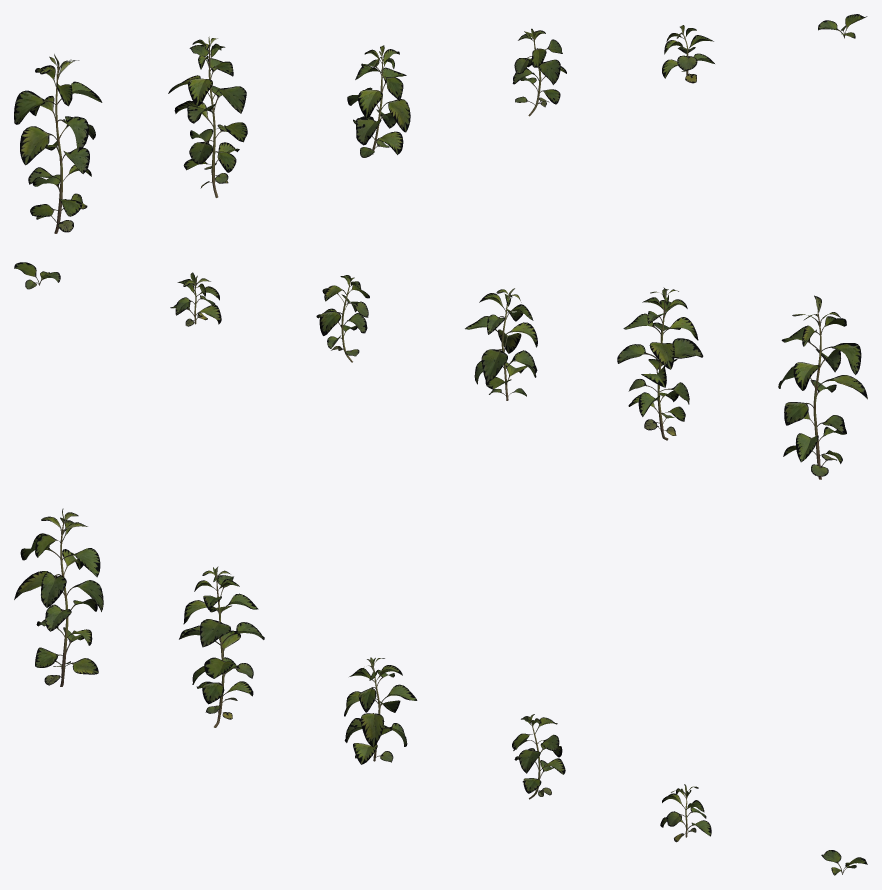
The model's file is nettle_plant.glb.
The picture shows the model from 3 angles, top to bottom: view 1: azimuth 30°, elevation 25°; view 2: azimuth 150°, elevation 25°; view 3: azimuth 330°, elevation 25°; orthographic projection.
Visible parts, largest first — view 1: nettle_plant_tall_a_LOD0, nettle_plant_tall_b_LOD0, nettle_plant_medium_a_LOD0, nettle_plant_medium_b_LOD0, nettle_plant_small_a_LOD0; view 2: nettle_plant_tall_a_LOD0, nettle_plant_tall_b_LOD0, nettle_plant_medium_a_LOD0, nettle_plant_medium_b_LOD0, nettle_plant_small_a_LOD0, nettle_plant_small_b_LOD0; view 3: nettle_plant_tall_a_LOD0, nettle_plant_tall_b_LOD0, nettle_plant_medium_a_LOD0, nettle_plant_medium_b_LOD0, nettle_plant_small_a_LOD0.
Part boxes in pixels (x1,y1,x2,y2): nettle_plant_tall_a_LOD0: [14, 54, 102, 233]; nettle_plant_tall_b_LOD0: [168, 36, 247, 197]; nettle_plant_medium_a_LOD0: [347, 45, 410, 157]; nettle_plant_medium_b_LOD0: [512, 28, 566, 116]; nettle_plant_small_a_LOD0: [662, 25, 714, 83]; nettle_plant_tall_a_LOD0: [778, 295, 867, 479]; nettle_plant_tall_b_LOD0: [617, 287, 703, 440]; nettle_plant_medium_a_LOD0: [465, 288, 537, 400]; nettle_plant_medium_b_LOD0: [316, 275, 369, 362]; nettle_plant_small_a_LOD0: [170, 272, 221, 326]; nettle_plant_small_b_LOD0: [14, 262, 60, 289]; nettle_plant_tall_a_LOD0: [14, 508, 103, 686]; nettle_plant_tall_b_LOD0: [179, 566, 264, 727]; nettle_plant_medium_a_LOD0: [344, 657, 417, 764]; nettle_plant_medium_b_LOD0: [512, 714, 565, 799]; nettle_plant_small_a_LOD0: [660, 784, 711, 842].
Bounding box in the file's own units: 1.08 × 0.2184 × 0.0947.
Materials: 1 (1 with a texture image).
